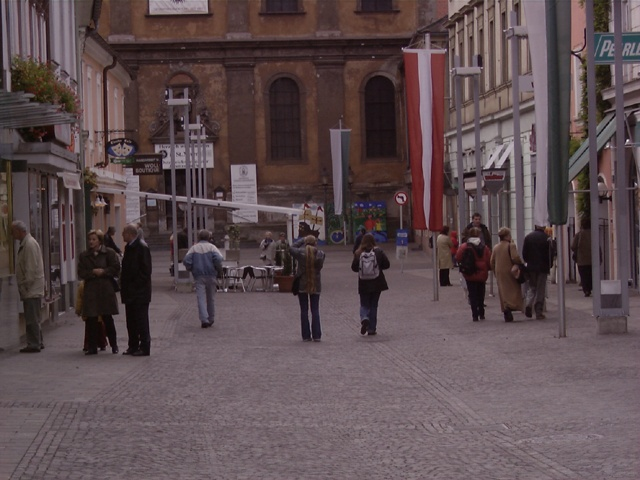person: (114, 220, 155, 357), (8, 218, 48, 353), (77, 230, 117, 357), (285, 229, 328, 341), (182, 230, 227, 328), (350, 235, 390, 335), (452, 227, 491, 323), (492, 227, 531, 319)
